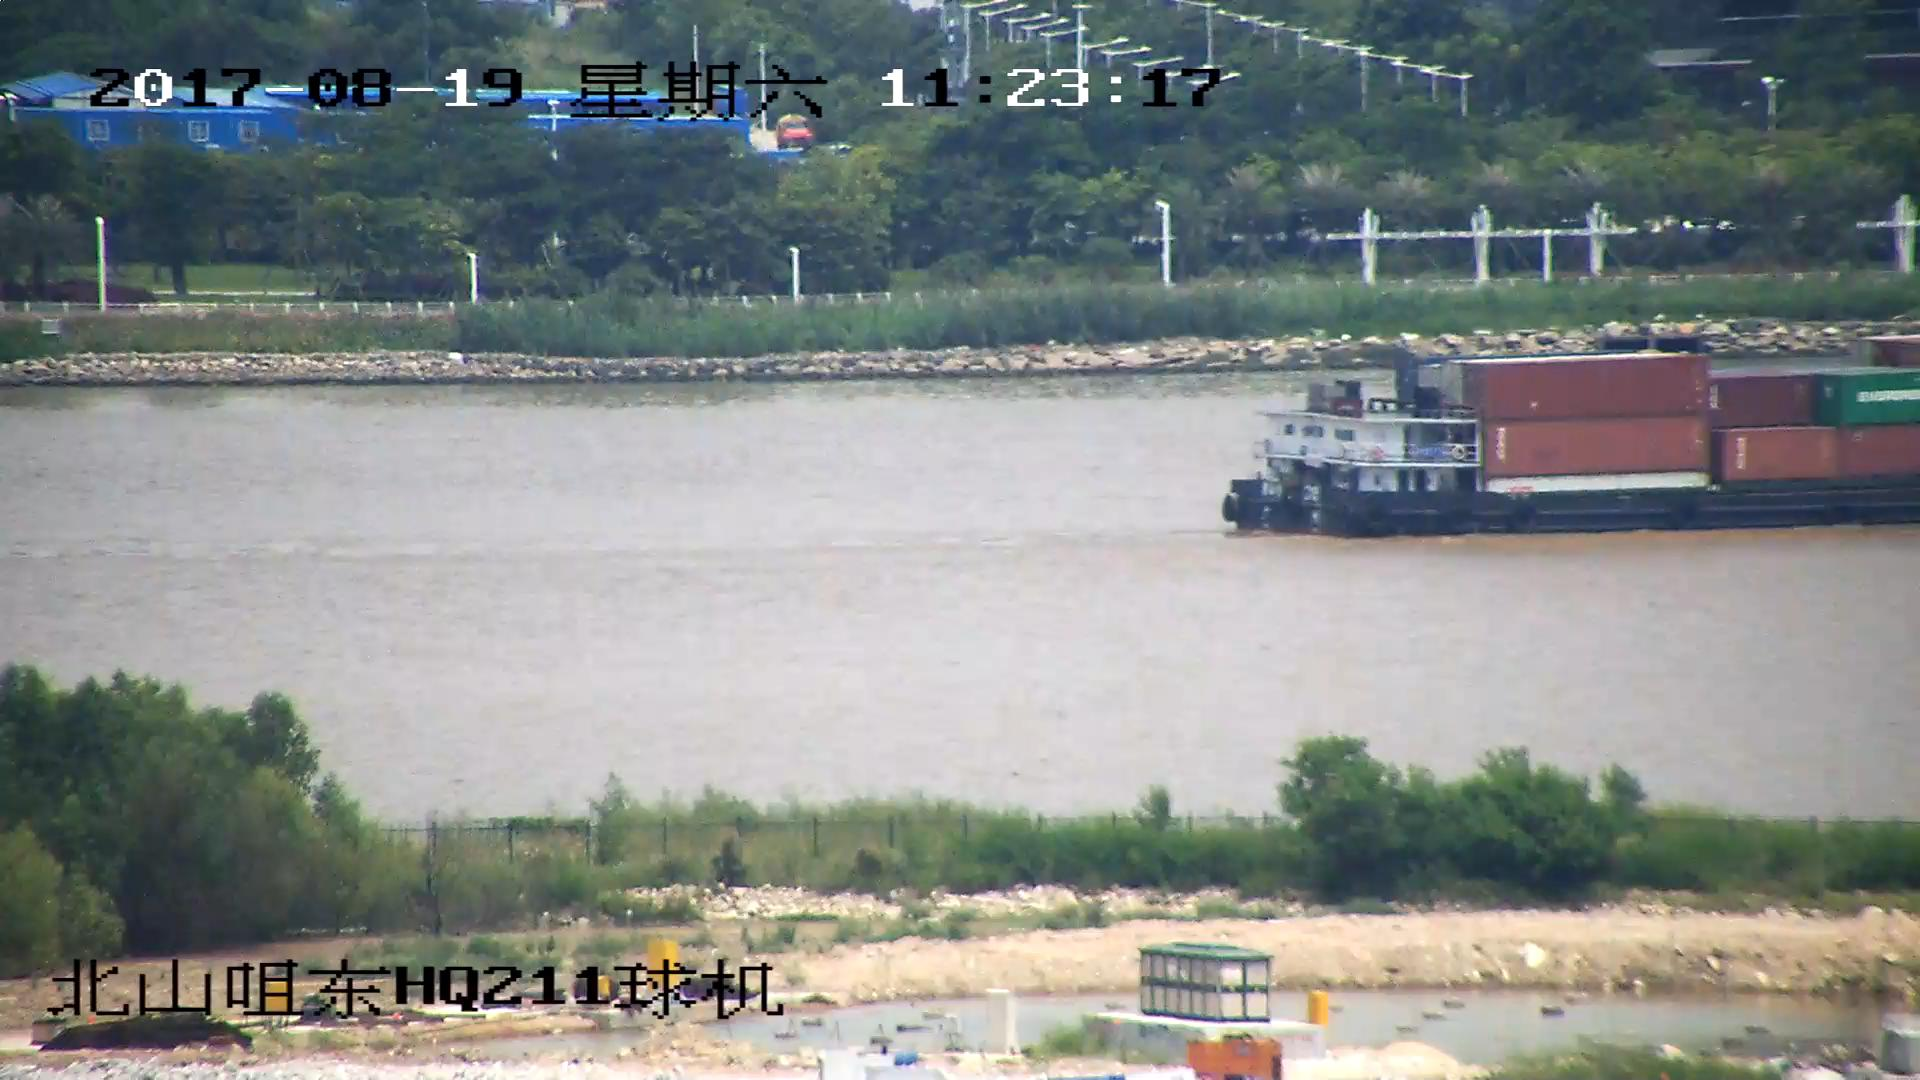container ship: (1211, 354, 1920, 541)
